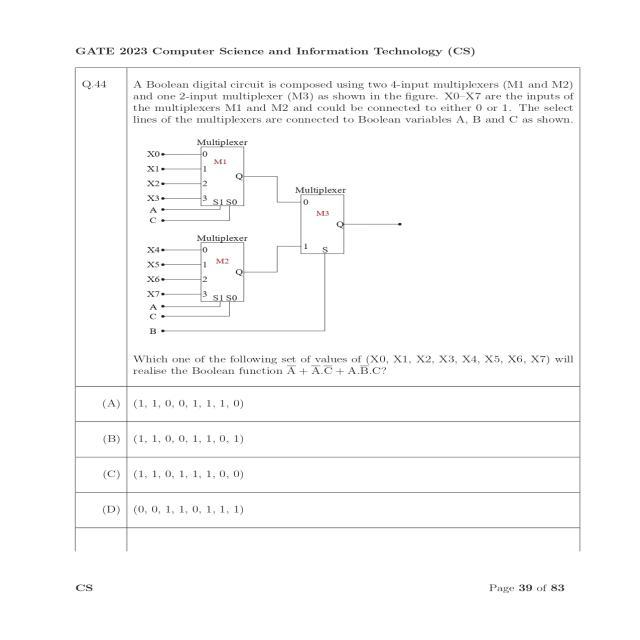Answer_Block: (70, 384, 577, 530)
Question_Answer_Block: (71, 68, 578, 530)
Question_Block: (70, 67, 575, 386)
Question_Paper_Area: (72, 40, 577, 529)
